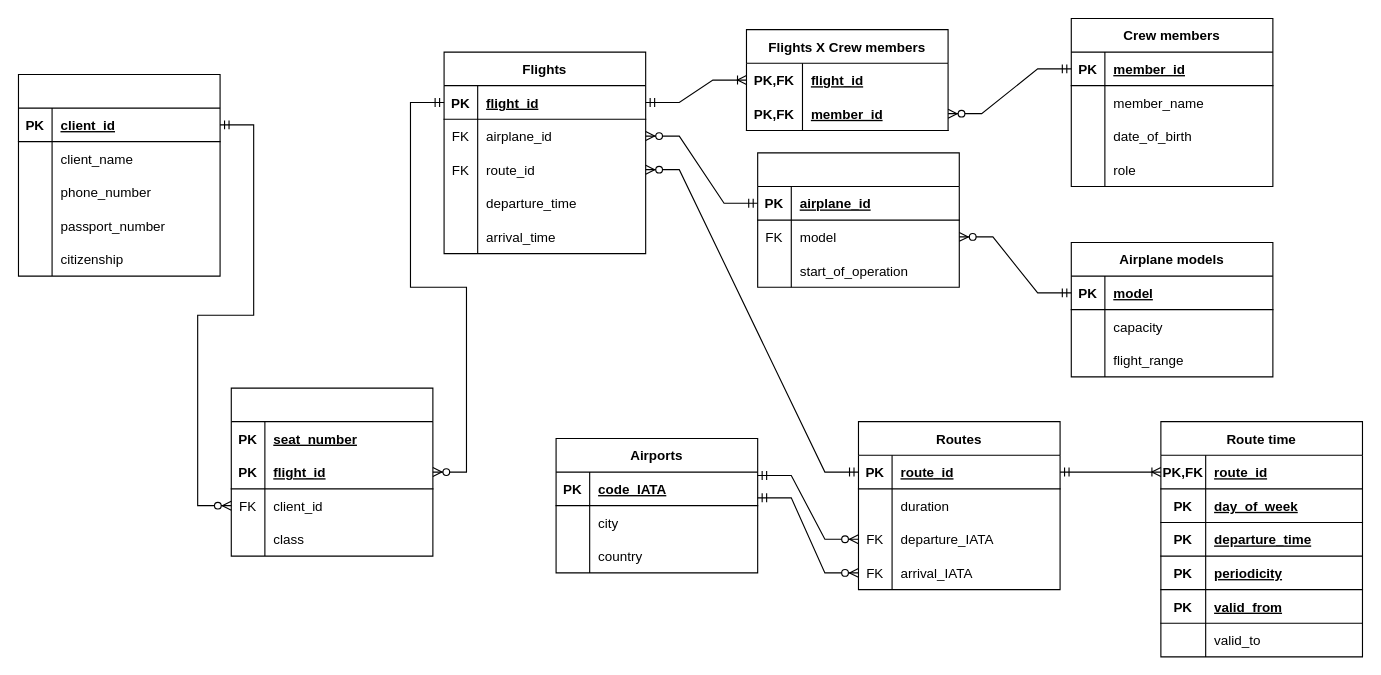
Image size: 1381x675. Some labels were removed from this diagram. The box of each missing label's shape, as (x1, y1, x2, y2) in pixels:
Airplanes: (757, 152, 959, 287)
Clients: (17, 73, 220, 276)
Tickets: (230, 387, 433, 556)
